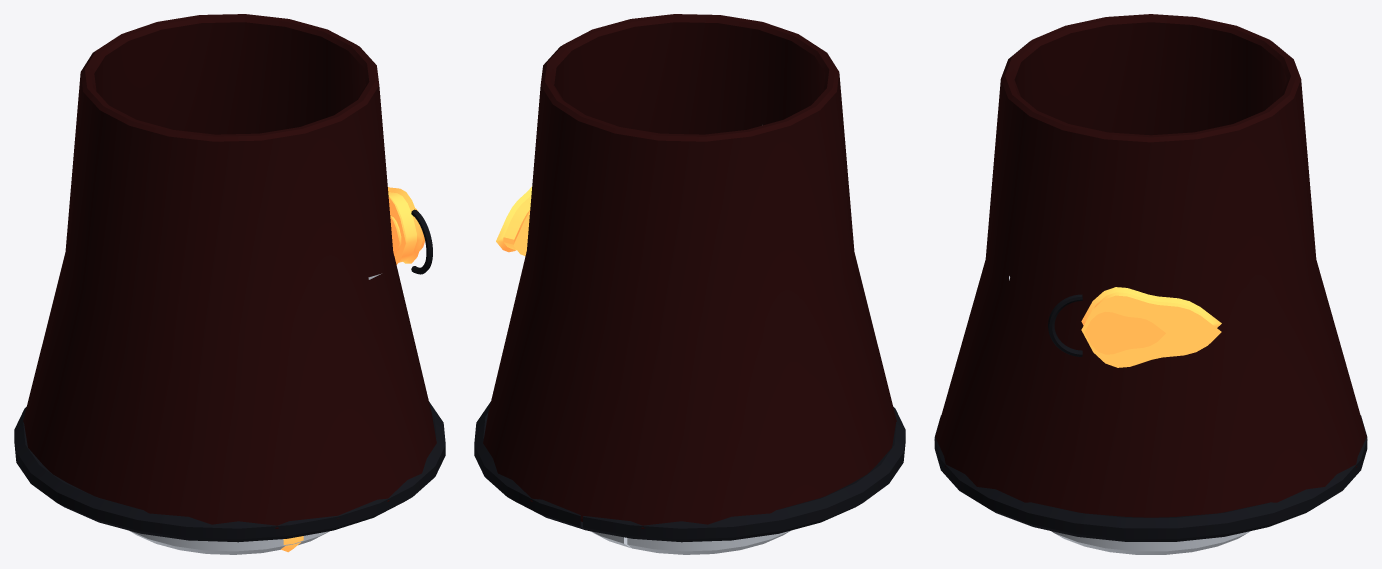
Rendered from esc_ender_of_tomes_gloves.glb.
3 views of the same model, side by side, from view 1: azimuth 30°, elevation 25°; view 2: azimuth 150°, elevation 25°; view 3: azimuth 270°, elevation 25° (orthographic).
Visible parts, largest first — view 1: esc_ender_of_tomes_gloves; view 2: esc_ender_of_tomes_gloves; view 3: esc_ender_of_tomes_gloves.
Part boxes in pixels (x1=…): esc_ender_of_tomes_gloves: x1=14, y1=14, x2=445, y2=554; esc_ender_of_tomes_gloves: x1=474, y1=14, x2=905, y2=554; esc_ender_of_tomes_gloves: x1=934, y1=14, x2=1367, y2=554.
Bounding box in the file's own units: 0.221 × 0.2464 × 0.2227.
